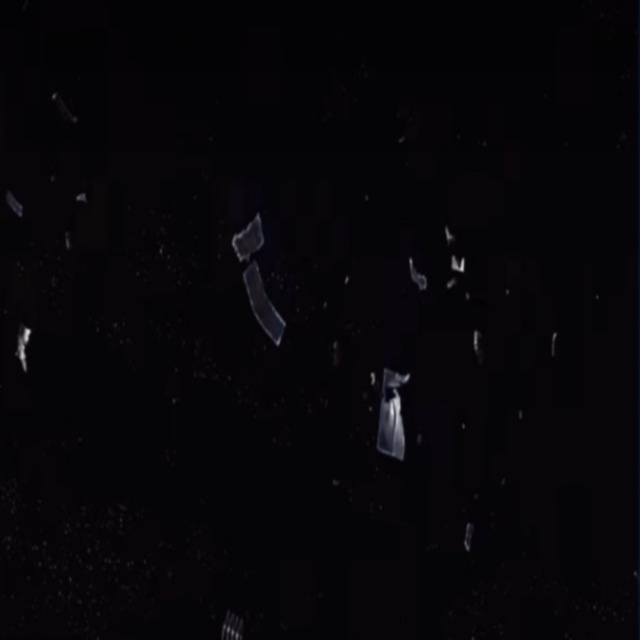large_debris: (226, 197, 290, 366), (361, 337, 417, 483), (9, 302, 45, 386), (398, 244, 432, 304), (217, 598, 253, 638), (457, 502, 480, 556)
